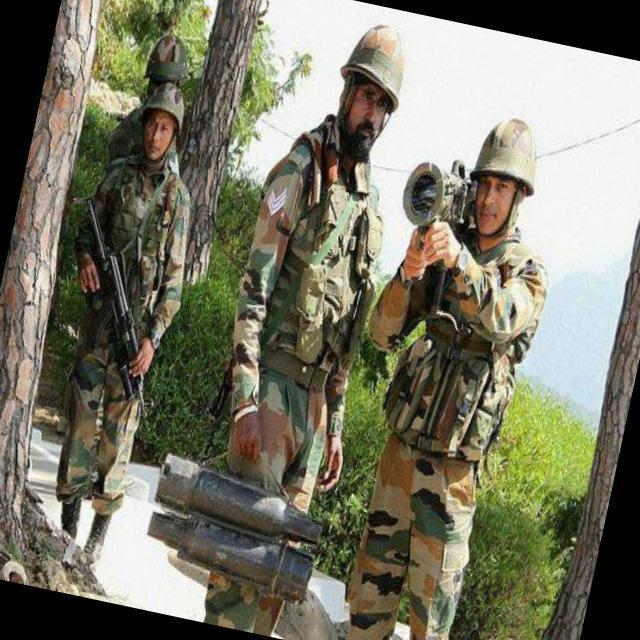rocket: (138, 443, 336, 603)
